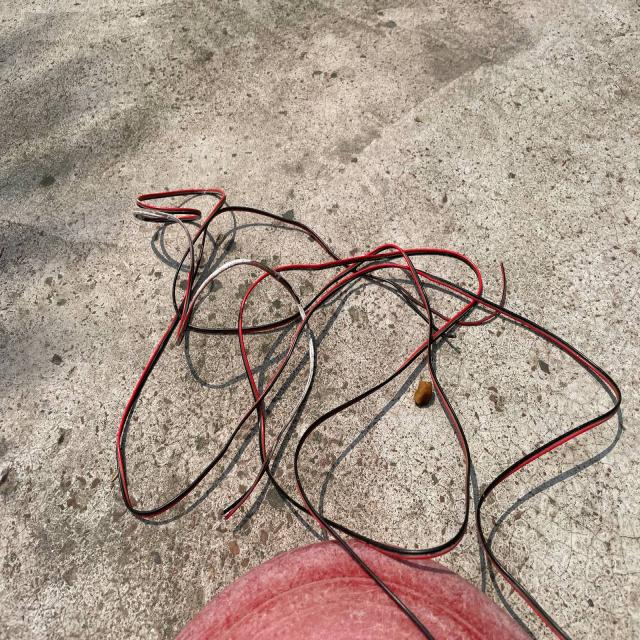Plastics: (152, 593, 572, 640)
can: (85, 174, 630, 588)
